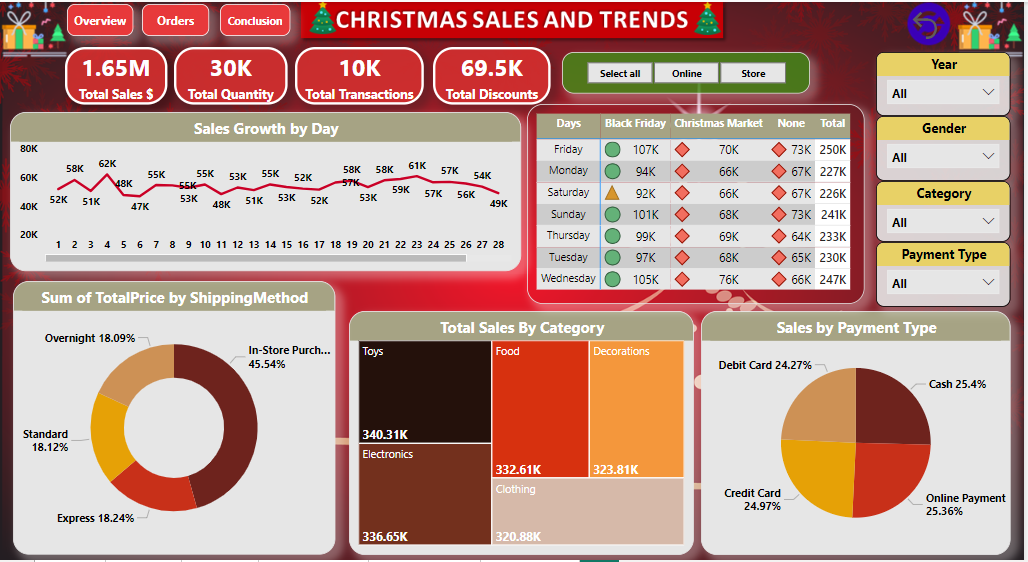

Layout of this report page (visuals, bound fields, positions):
{"tool":"powerbi","page":{"name":"Dashboard-2","canvas":[1280,720],"ordinal":1},"visuals":[{"type":"card","fields":{"Values":["Sum(Christmas Sales and Trends (Aut.TotalPrice)"]},"box":[81.3,67.1,127.7,72.3],"z":0},{"type":"card","fields":{"Values":["Sum(Christmas Sales and Trends (Aut.Quantity)"]},"box":[218.1,67.1,141.9,72.3],"z":1000},{"type":"card","fields":{"Values":["CountNonNull(Christmas Sales and Trends (Aut.TransactionID)"]},"box":[369,67.1,161.3,72.3],"z":2000},{"type":"card","fields":{"Values":["Sum(Christmas Sales and Trends (Aut.DiscountAmount)"]},"box":[540.6,67.1,147.1,72.3],"z":3000},{"type":"treemap","title":"Total Sales By Category","fields":{"Group":["Christmas Sales and Trends (Aut.Category"],"Values":["Sum(Christmas Sales and Trends (Aut.TotalPrice)"]},"box":[450,397.5,417.5,305],"z":4000},{"type":"pieChart","title":"Sales by Payment Type","fields":{"Category":["Christmas Sales and Trends (Aut.PaymentType"],"Y":["CountNonNull(Christmas Sales and Trends (Aut.PaymentType)"]},"box":[876.1,397.4,387.1,304.5],"z":5000},{"type":"donutChart","fields":{"Category":["Christmas Sales and Trends (Aut.ShippingMethod"],"Y":["Sum(Christmas Sales and Trends (Aut.TotalPrice)"]},"box":[16.2,360,423.8,342.5],"z":6000},{"type":"lineChart","title":"Sales Growth by Day","fields":{"Y":["Sum(Christmas Sales and Trends (Aut.TotalPrice)"],"Category":["Christmas Sales and Trends (Aut.Date.Variation.Date Hierarchy.Day"]},"box":[12.9,148.4,638.7,198.7],"z":7000},{"type":"pivotTable","fields":{"Rows":["Christmas Sales and Trends (Aut.Days"],"Values":["Sum(Christmas Sales and Trends (Aut.TotalPrice)"],"Columns":["Christmas Sales and Trends (Aut.Event"]},"box":[659.4,139.4,421.9,250.3],"z":8000},{"type":"slicer","fields":{"Values":["Christmas Sales and Trends (Aut.OnlineOrderFlag"]},"box":[701.9,74.3,309.7,52.3],"z":9000},{"type":"slicer","title":"Year","fields":{"Values":["Christmas Sales and Trends (Aut.Date.Variation.Date Hierarchy.Year"]},"box":[1095.6,74.3,167.9,79.8],"z":10000},{"type":"slicer","title":"Gender","fields":{"Values":["Christmas Sales and Trends (Aut.Gender"]},"box":[1095.6,154.2,167.9,81.2],"z":11000},{"type":"slicer","title":"Category","fields":{"Values":["Christmas Sales and Trends (Aut.Category"]},"box":[1095.6,235.4,167.9,75.7],"z":12000},{"type":"slicer","title":"Payment Type","fields":{"Values":["Christmas Sales and Trends (Aut.PaymentType"]},"box":[1095.6,311.1,167.9,81.2],"z":13000},{"type":"actionButton","title":"Orders","box":[83.9,14.2,82.6,40],"z":13001},{"type":"actionButton","title":"Overview","box":[178.1,14.2,83.9,40],"z":13002},{"type":"actionButton","box":[274.8,14.2,87.7,40],"z":13003},{"type":"actionButton","box":[1134.2,14.2,45.2,52.9],"z":13004}]}

Visuals, with their boxes in screenshot pixels (x1, y1, x2, y2), scaled from the page's 1280x720 canvas onto the 1028x562 screenshot:
card - Sum(Christmas Sales and Trends (Aut.TotalPrice): left=65, top=52, right=168, bottom=109
card - Sum(Christmas Sales and Trends (Aut.Quantity): left=175, top=52, right=289, bottom=109
card - CountNonNull(Christmas Sales and Trends (Aut.TransactionID): left=296, top=52, right=426, bottom=109
card - Sum(Christmas Sales and Trends (Aut.DiscountAmount): left=434, top=52, right=552, bottom=109
"Total Sales By Category" treemap: left=361, top=310, right=697, bottom=548
"Sales by Payment Type" pieChart: left=704, top=310, right=1015, bottom=548
donutChart - Christmas Sales and Trends (Aut.ShippingMethod x Sum(Christmas Sales and Trends (Aut.TotalPrice): left=13, top=281, right=353, bottom=548
"Sales Growth by Day" lineChart: left=10, top=116, right=523, bottom=271
pivotTable - Christmas Sales and Trends (Aut.Days x Sum(Christmas Sales and Trends (Aut.TotalPrice): left=530, top=109, right=868, bottom=304
slicer - Christmas Sales and Trends (Aut.OnlineOrderFlag: left=564, top=58, right=812, bottom=99
"Year" slicer: left=880, top=58, right=1015, bottom=120
"Gender" slicer: left=880, top=120, right=1015, bottom=184
"Category" slicer: left=880, top=184, right=1015, bottom=243
"Payment Type" slicer: left=880, top=243, right=1015, bottom=306
"Orders" actionButton: left=67, top=11, right=134, bottom=42
"Overview" actionButton: left=143, top=11, right=210, bottom=42
actionButton: left=221, top=11, right=291, bottom=42
actionButton: left=911, top=11, right=947, bottom=52
